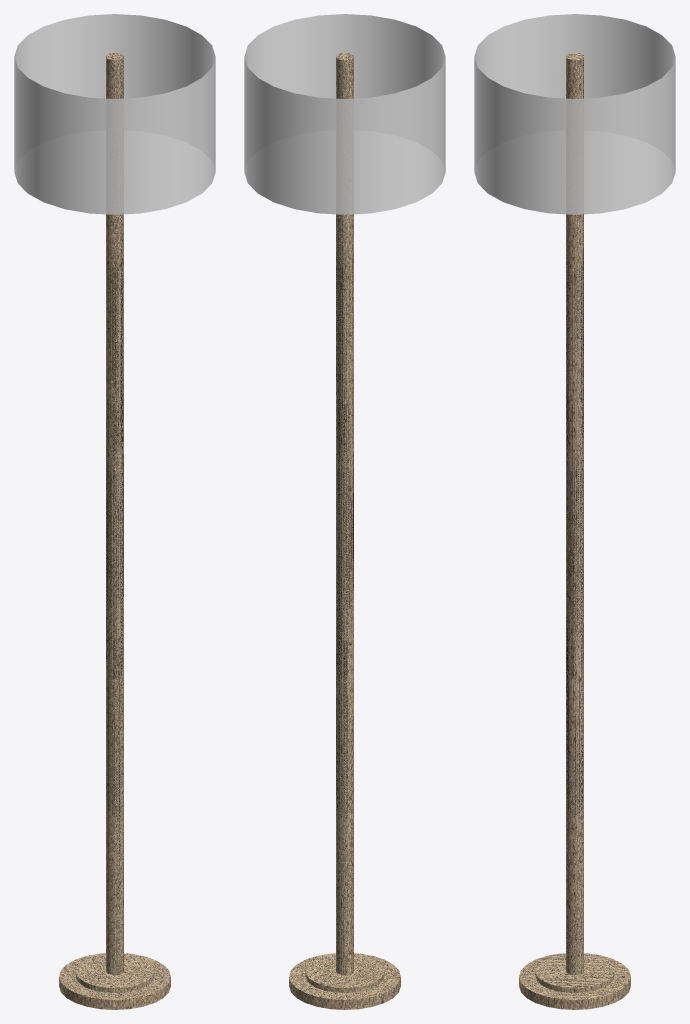
File: floorlamp.dae
3 views of the same model, side by side, from view 1: azimuth 30°, elevation 25°; view 2: azimuth 150°, elevation 25°; view 3: azimuth 270°, elevation 25° (orthographic).
Visible parts, largest first — view 1: SketchUp (×5); view 2: SketchUp (×5); view 3: SketchUp (×5).
Part boxes in pixels (bbox=[...]): SketchUp (×5): bbox=[14, 14, 215, 1009]; SketchUp (×5): bbox=[244, 14, 445, 1009]; SketchUp (×5): bbox=[474, 14, 675, 1009].
Bounding box in the file's own units: 14.17 × 14.17 × 72.24.
Materials: 4 (2 with a texture image).
